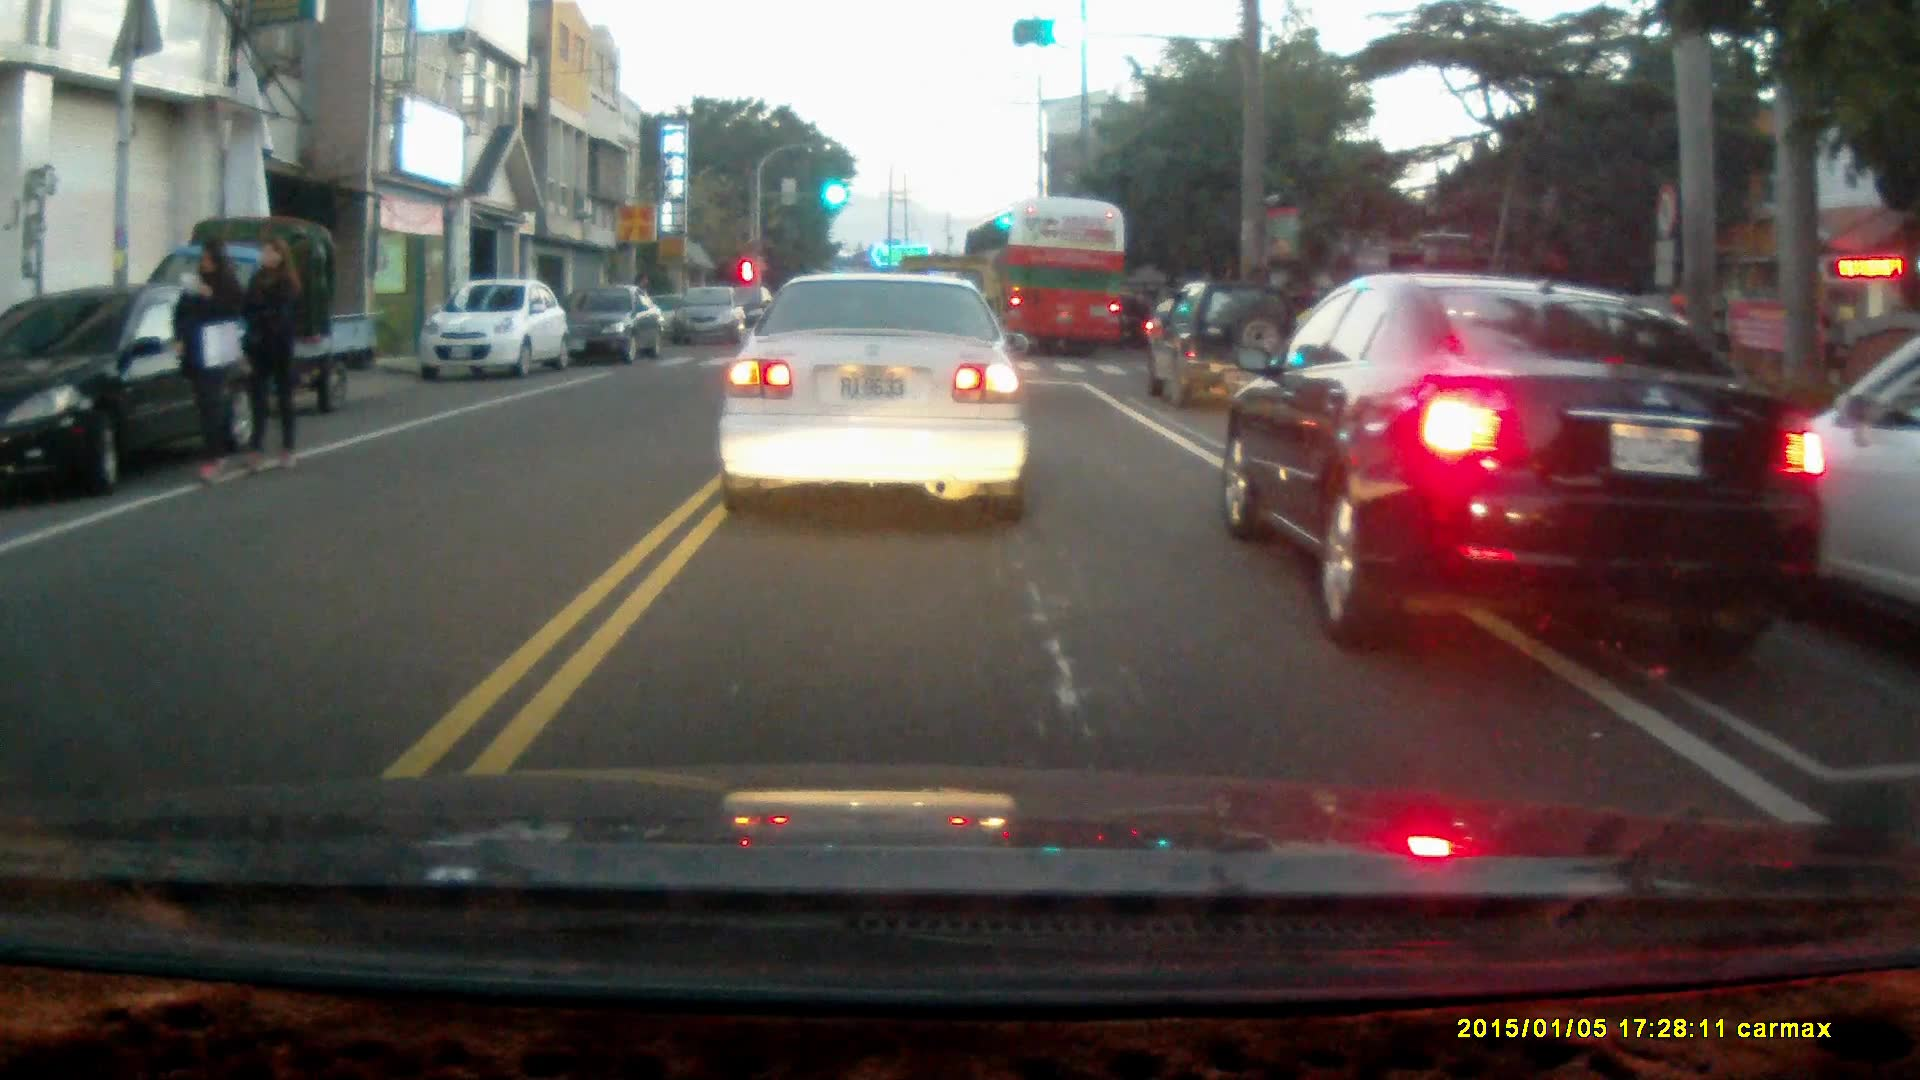pedestrian: (171, 234, 244, 485), (240, 233, 302, 468)
vehicle: (1222, 273, 1833, 641), (716, 266, 1030, 522), (1, 279, 273, 492), (1720, 339, 1920, 615), (140, 213, 386, 415), (963, 199, 1126, 358), (1152, 278, 1295, 409), (420, 279, 573, 381), (558, 278, 669, 368), (671, 286, 753, 347)
